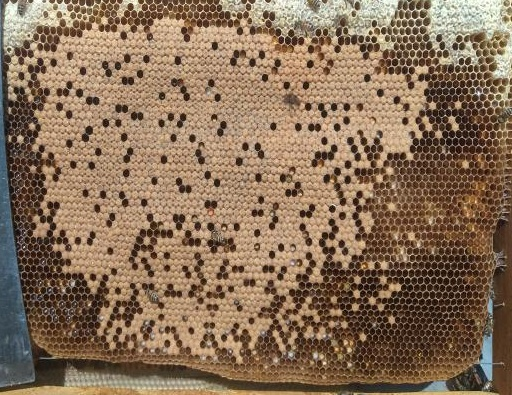cria: (6, 15, 484, 367)
